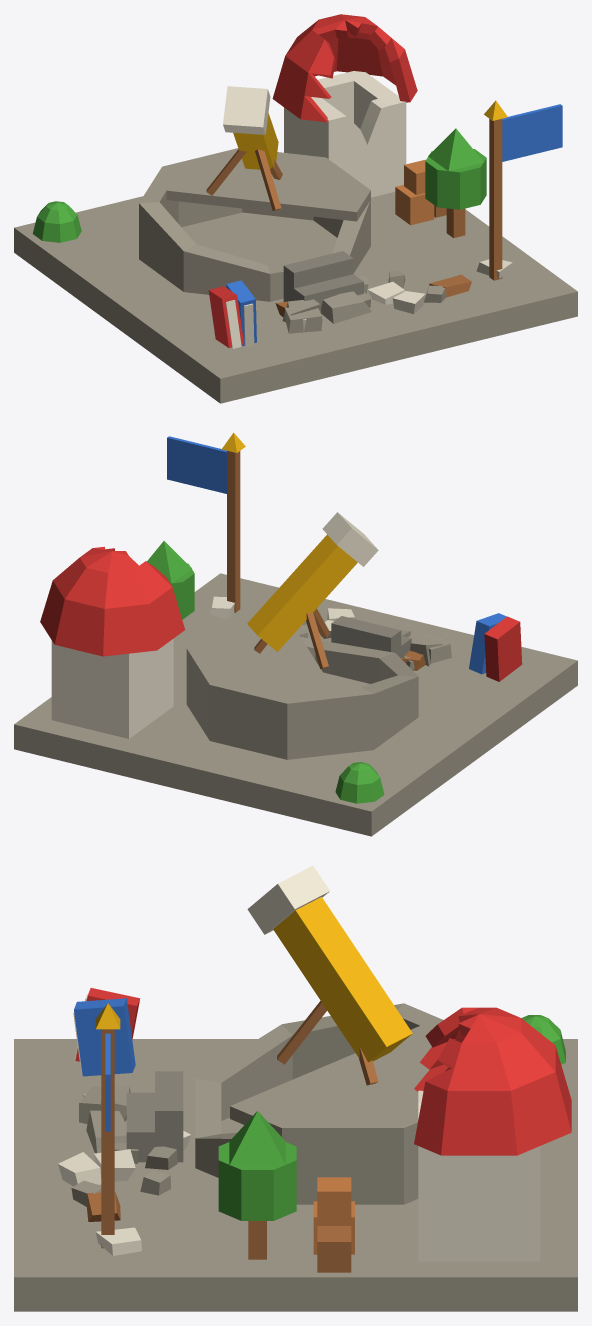
Rendered from observatory_t1_v3_dmg1.glb.
The picture shows the model from 3 angles, top to bottom: view 1: azimuth 30°, elevation 25°; view 2: azimuth 150°, elevation 25°; view 3: azimuth 270°, elevation 25°; orthographic projection. The views are drawn at different scales.
Parts seen in each view (by area): view 1: observatory_t1_v3_dmg1; view 2: observatory_t1_v3_dmg1; view 3: observatory_t1_v3_dmg1.
Boxes of the visible parts, x1,y1,x2,y2 form: observatory_t1_v3_dmg1: [14, 14, 577, 403]; observatory_t1_v3_dmg1: [14, 432, 577, 836]; observatory_t1_v3_dmg1: [14, 865, 577, 1311].
Bounding box in the file's own units: 0.63 × 0.3351 × 0.6.
1 material, 1 textured.
